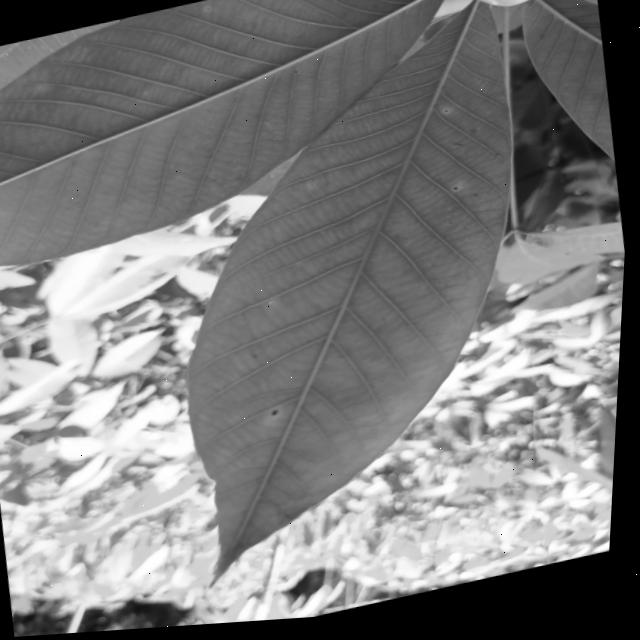Colletotrichum: (275, 414, 282, 420)
